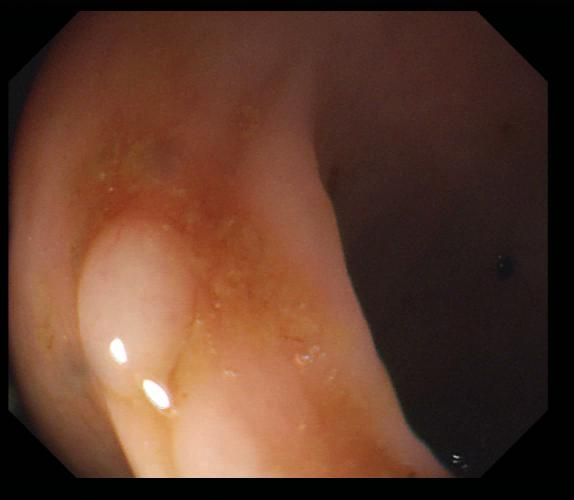polyp: (73, 211, 197, 404)
